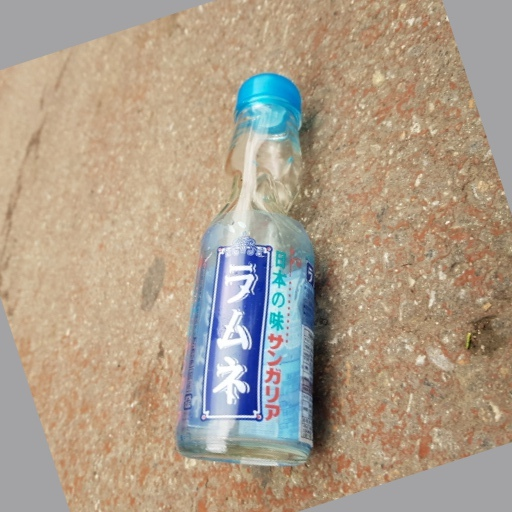Glass_4: (173, 75, 323, 472)
